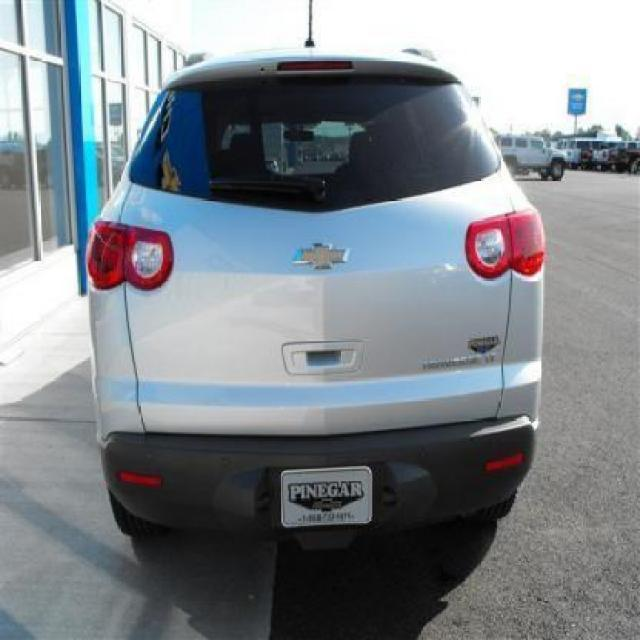vehicle: (74, 56, 556, 546)
